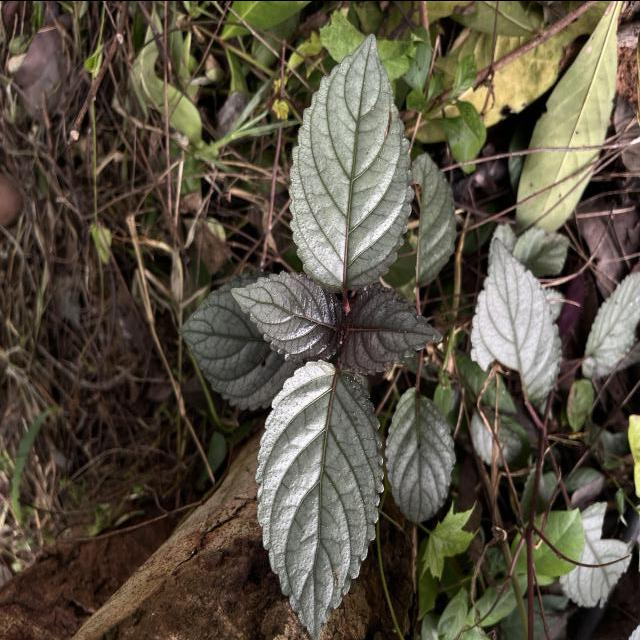Hemigraphis colorata: (252, 357, 388, 640), (285, 30, 418, 293), (226, 264, 346, 369), (384, 383, 457, 525), (344, 281, 446, 378)
